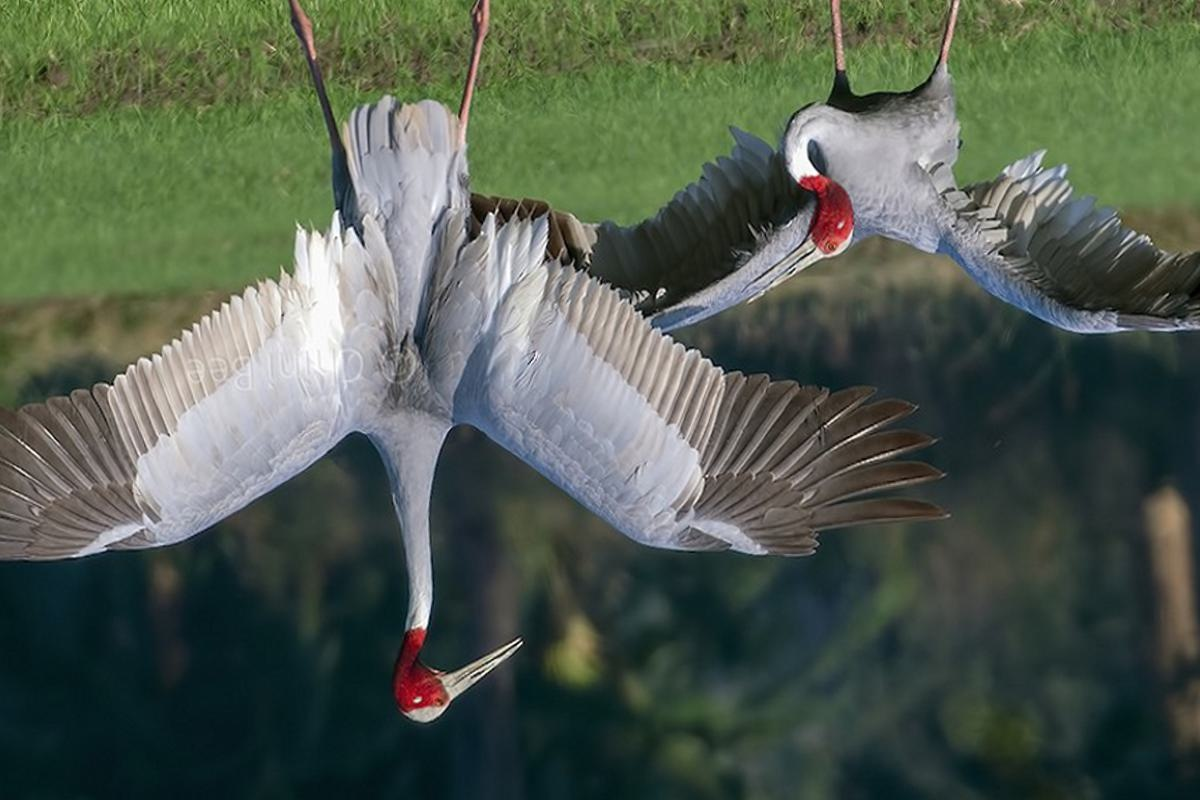crane: (1, 41, 931, 743), (630, 1, 1200, 338)
